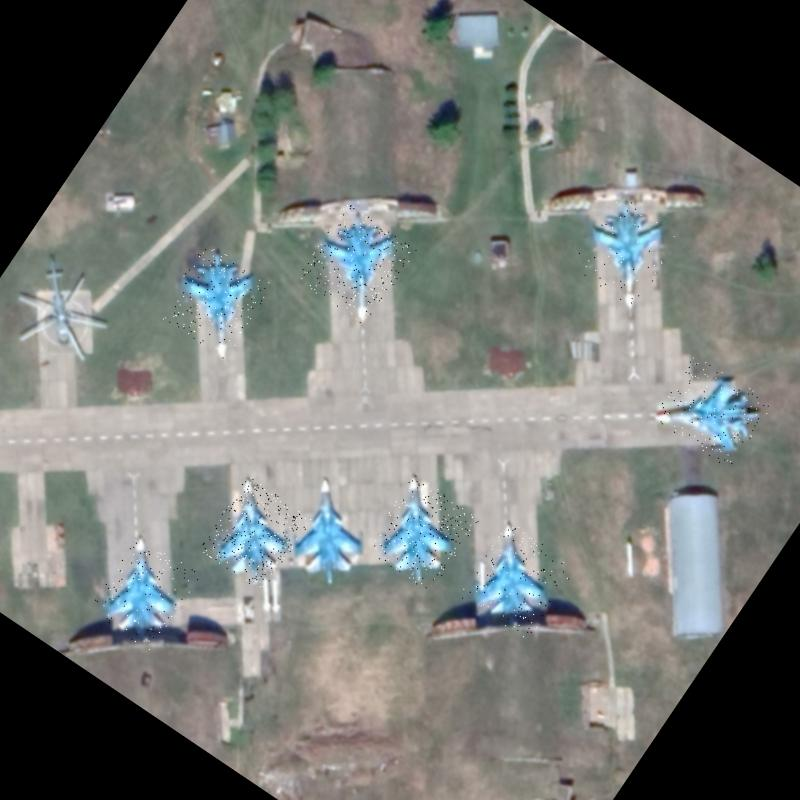A19: (295, 203, 417, 327), (457, 520, 578, 644), (651, 352, 773, 470), (566, 191, 684, 312), (157, 241, 275, 361), (364, 474, 480, 594), (274, 476, 390, 595), (198, 476, 312, 593), (88, 534, 201, 652)
